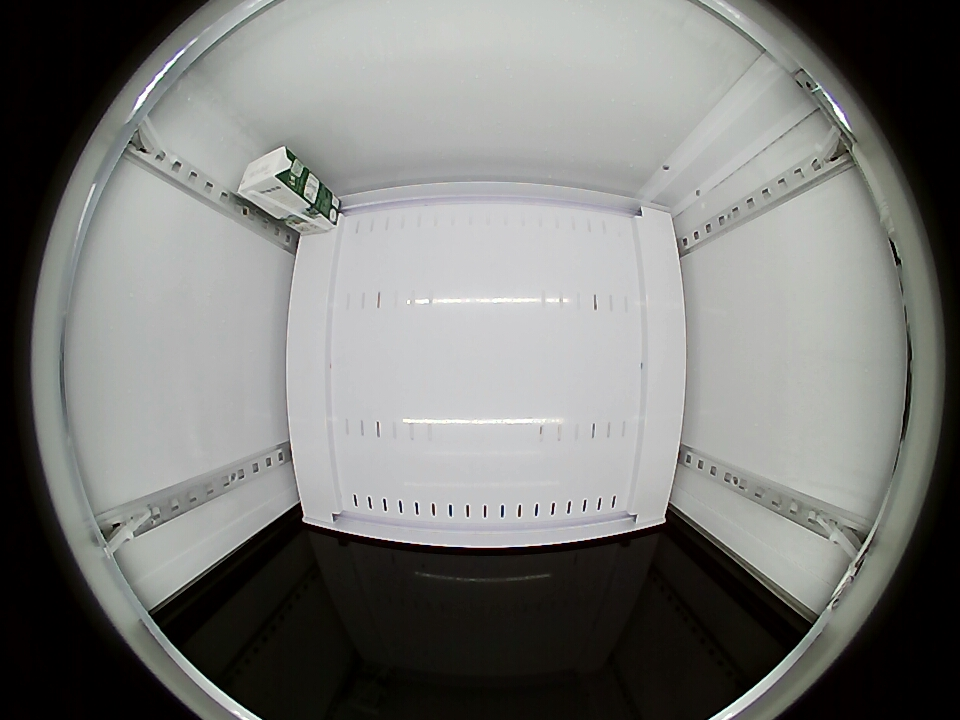jindian: (236, 145, 305, 209)
